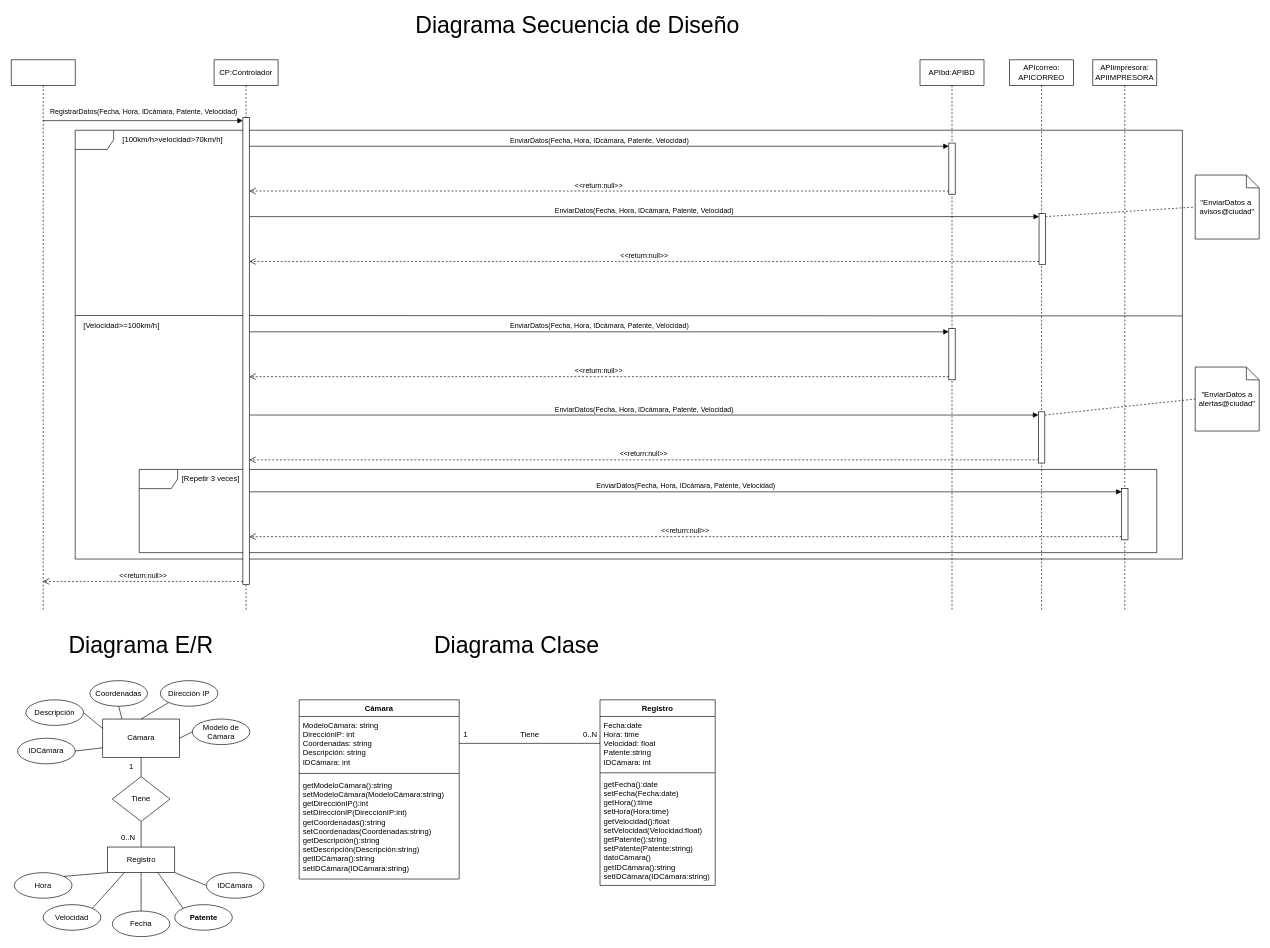
Some shapes in this 1270 by 948 pixel diagram are drawn without their labels. The box of each missing label's shape, as (x1, y1, x2, y2) in pixels:
Alt: (75, 130, 1182, 559)
cam:Cámara: (11, 59, 75, 610)
Loop: (139, 469, 1157, 553)
